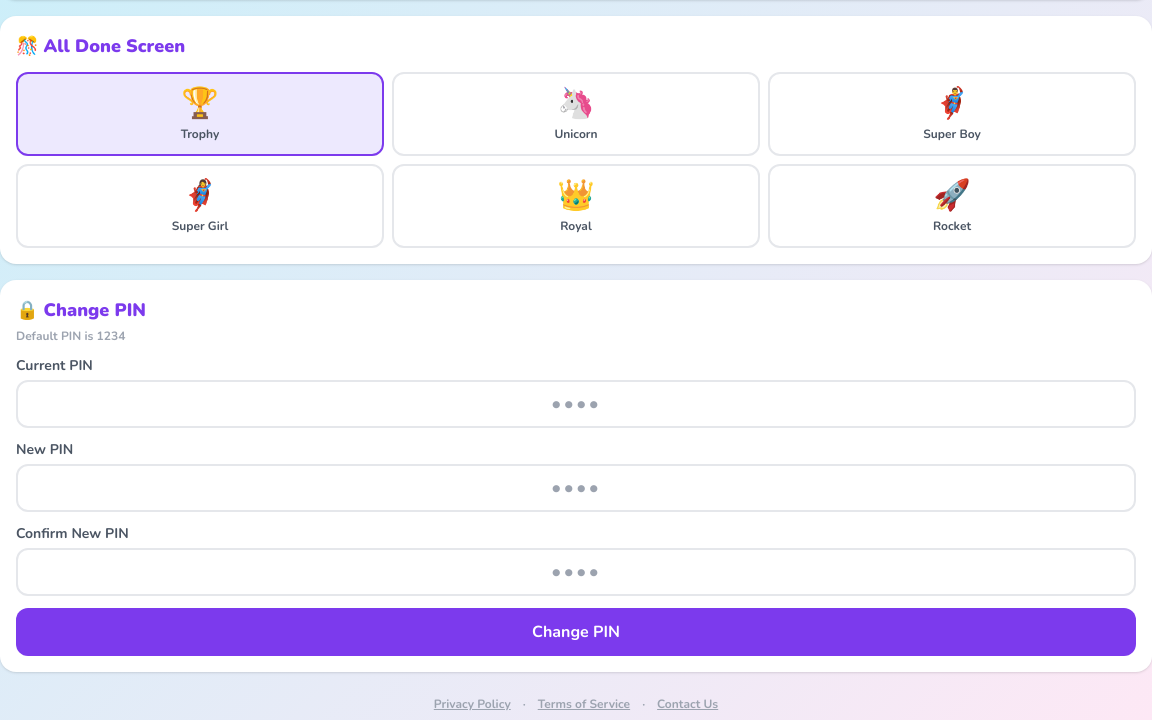
Test: Settings — PIN change › shows error when new PIN is not 4 digits
(page scrolled)
In the password field with placeholder "••••" below "Current PIN": (576, 404) [16,380,1136,428], type "1234"
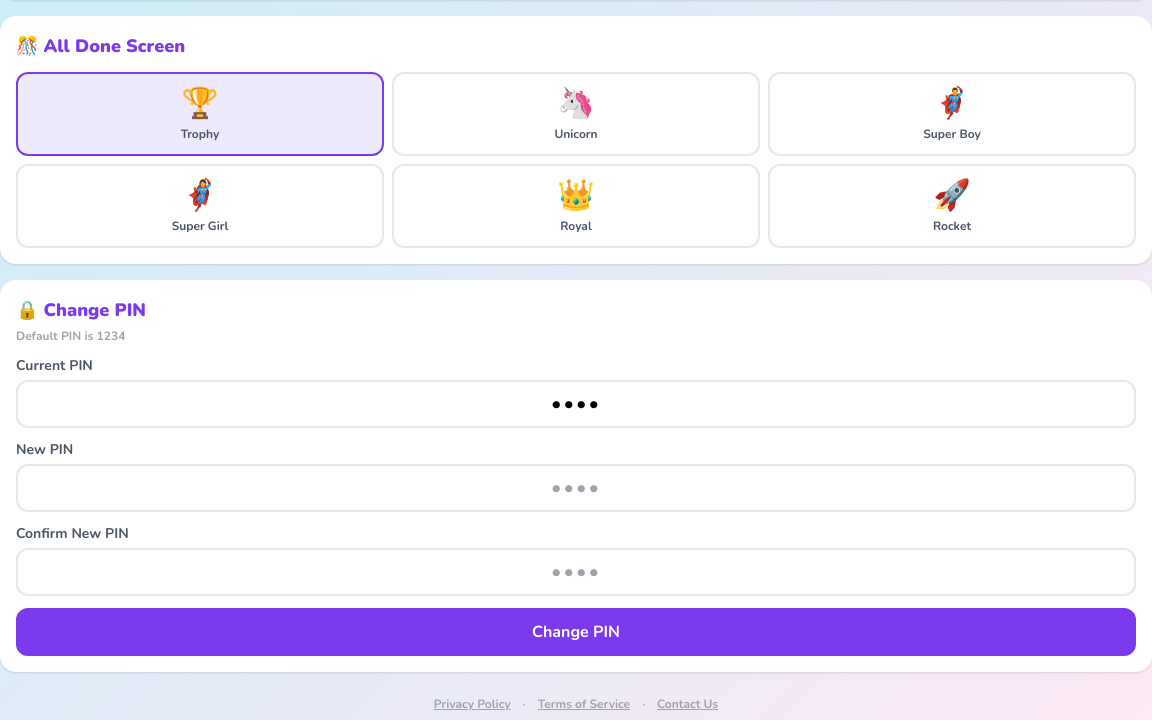
In the 1st password field with placeholder "••••": (576, 488) [16,464,1136,512], type "12"
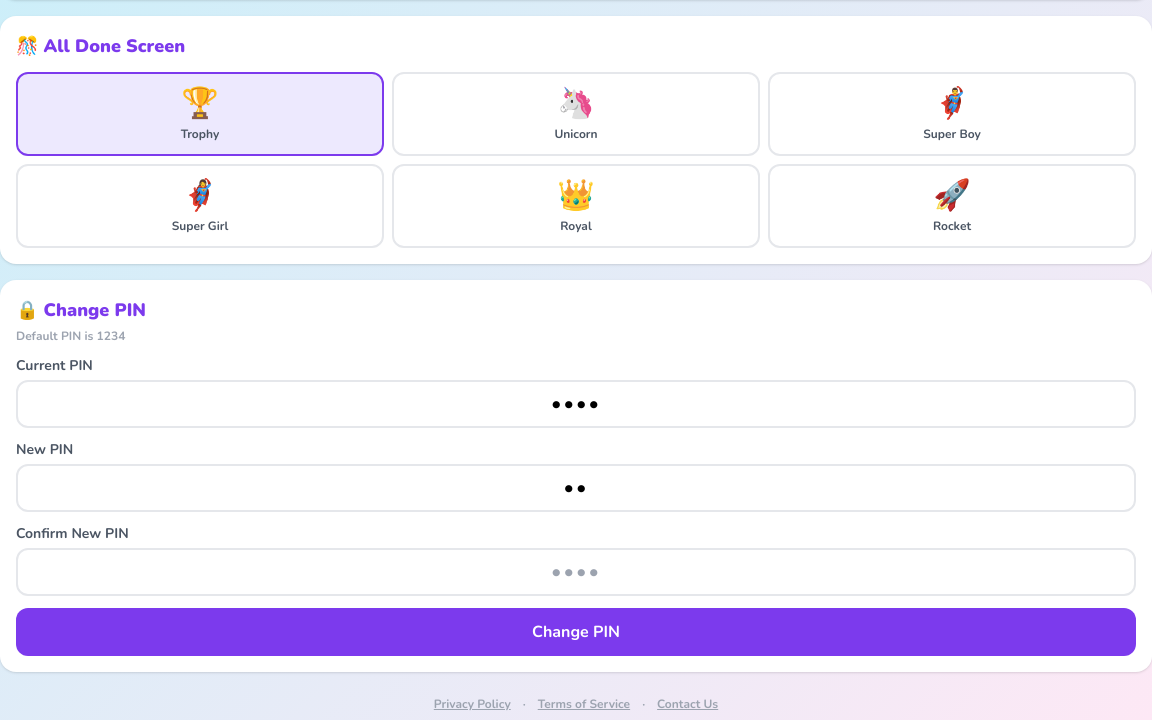
Click the button "Change PIN": (576, 632) [16,608,1136,656]
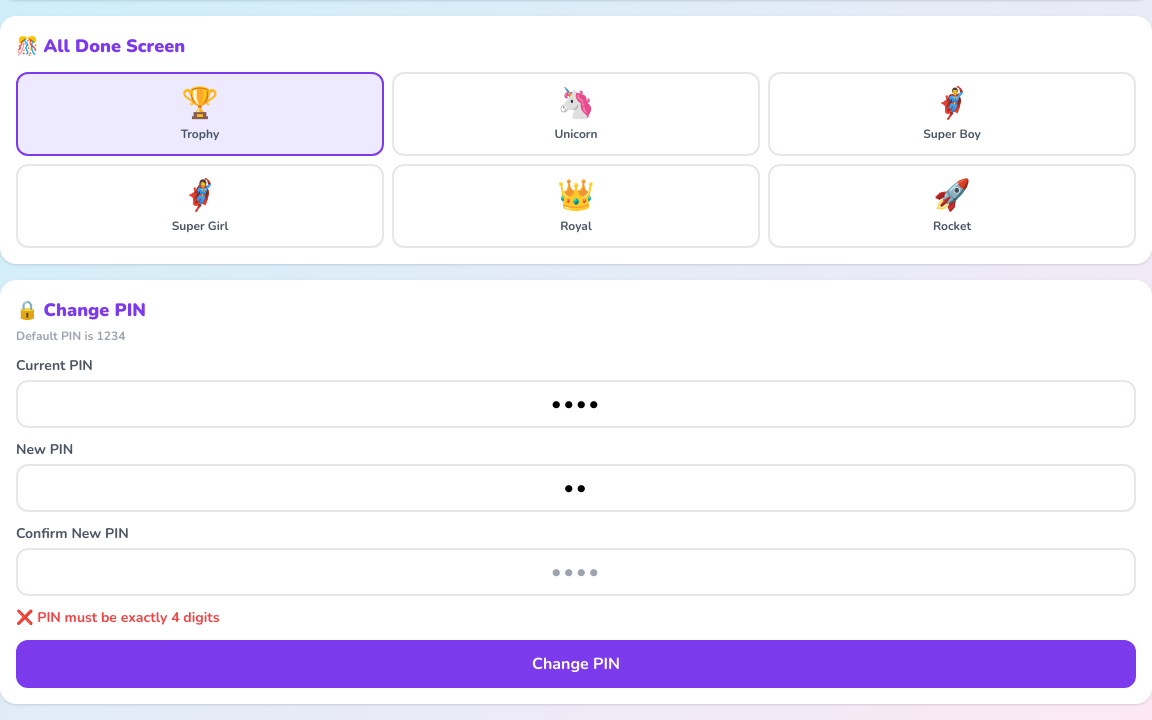
expect the text "❌ PIN must be exactly 4 digits" is shown: met, box [16,608,220,627]
